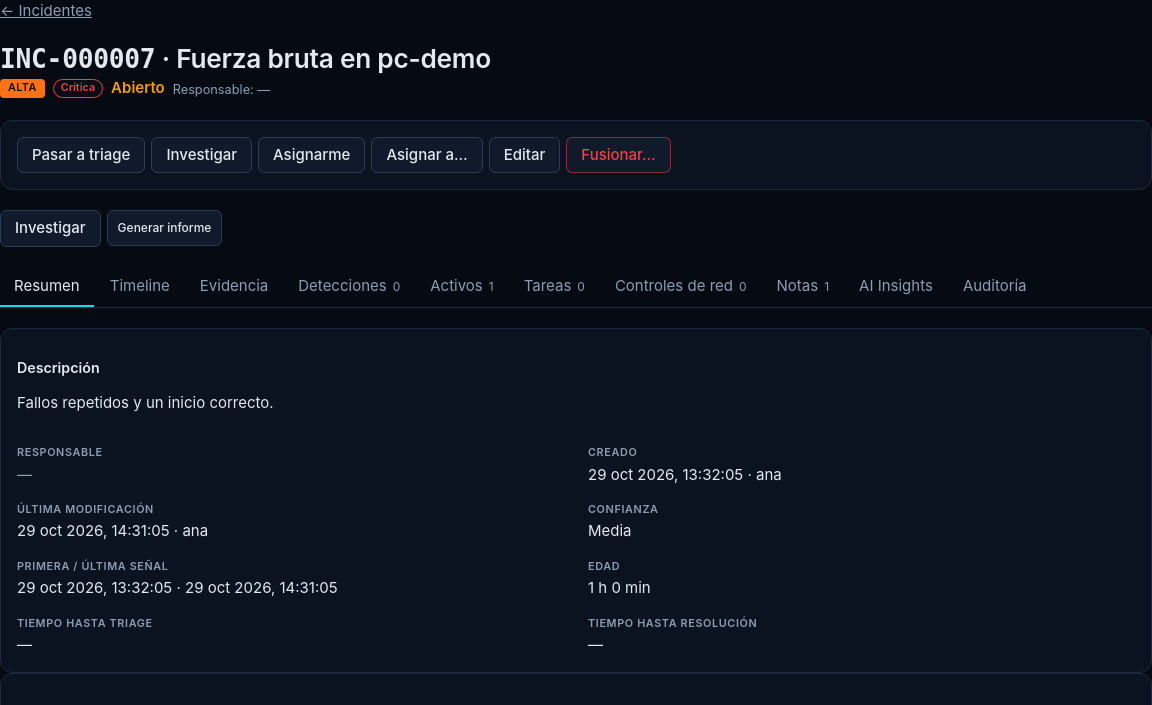
Test: IncidentDetailPage › muestra el contexto actual del activo y los snapshots al vincular y resolver
Click the tab "Activos1".
click(462, 287)  # box [416,267,508,307]
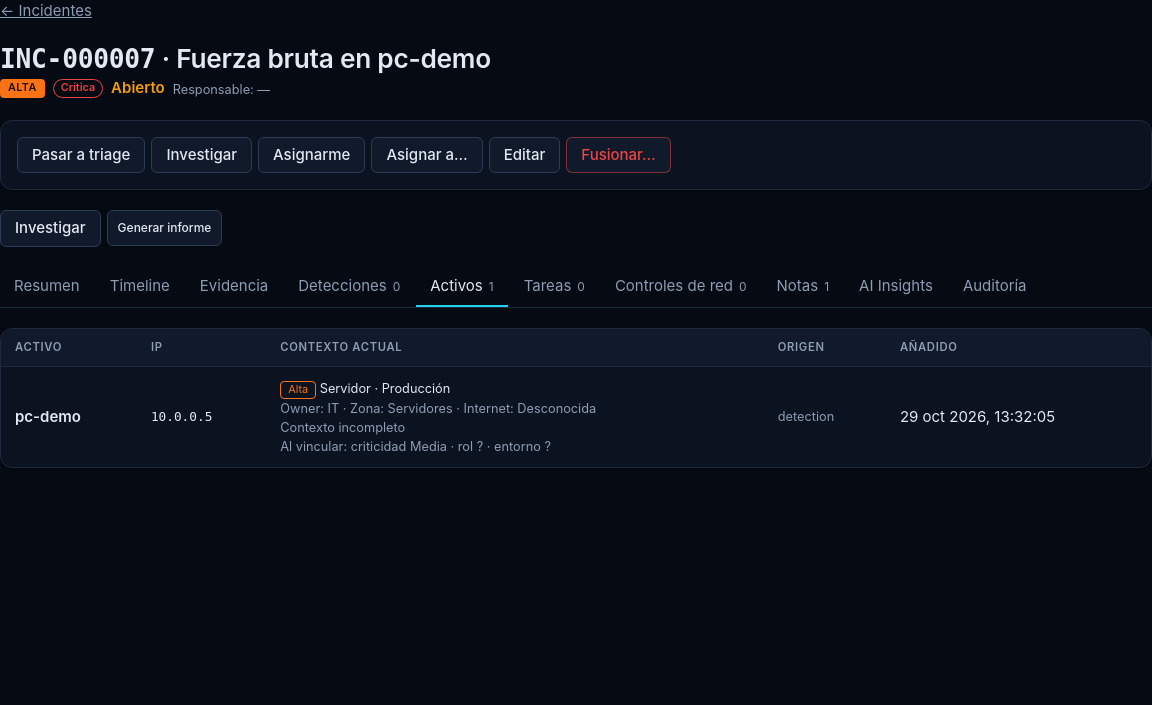
Expected: the text "Al vincular: criticidad Media · rol ? · entorno ?" is shown, [280,440,551,454]
